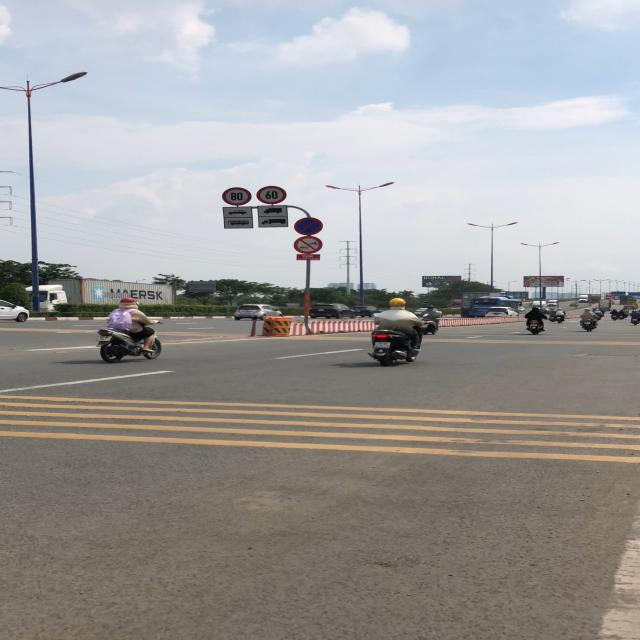Bien bao cam dung xe va do xe: (292, 217, 322, 236)
Bien bao toc do toi da cho phep: (218, 185, 254, 209), (254, 186, 292, 206)
